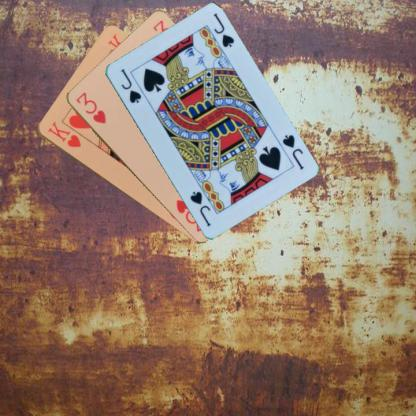3h: (73, 89, 107, 125)
Js: (279, 132, 305, 171), (117, 65, 142, 105)
Kh: (45, 119, 82, 149)
